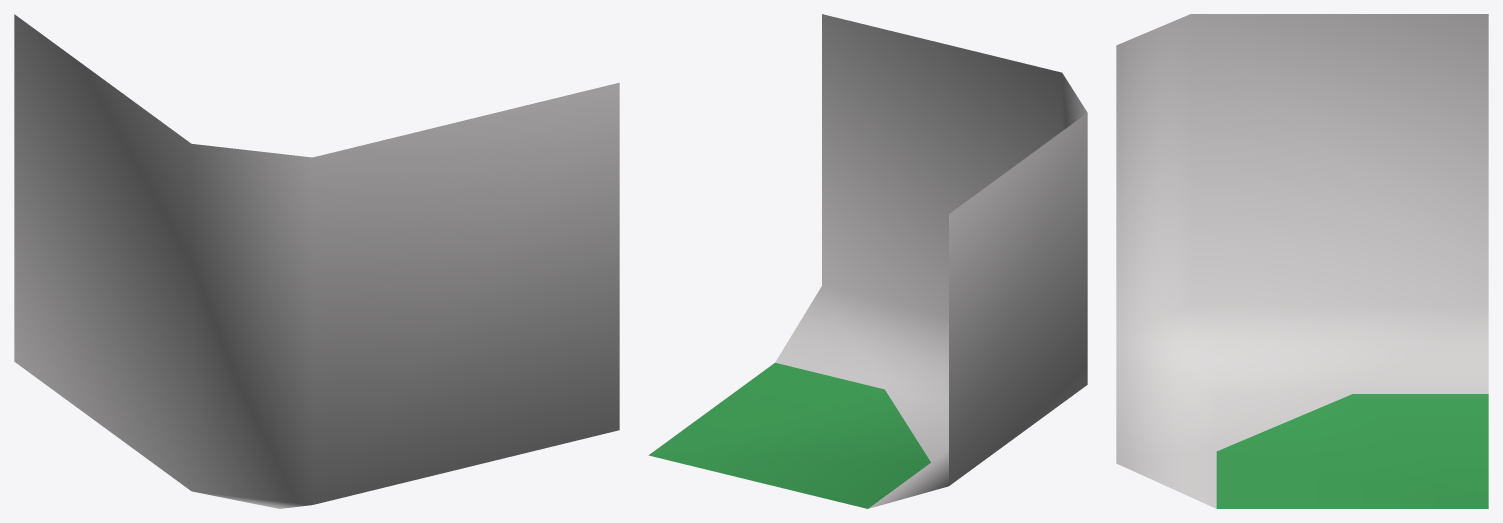
The model's file is CliffStem_InnerBend.fbx.
The picture shows the model from 3 angles, left to right: view 1: azimuth 30°, elevation 25°; view 2: azimuth 150°, elevation 25°; view 3: azimuth 270°, elevation 25°; orthographic projection. The views are drawn at different scales.
Parts seen in each view (by area): view 1: CliffStem_InnerBend.001; view 2: CliffStem_InnerBend.001; view 3: CliffStem_InnerBend.001.
Boxes of the visible parts, left/top/right/bottom form: CliffStem_InnerBend.001: left=14, top=14, right=619, bottom=508; CliffStem_InnerBend.001: left=648, top=14, right=1087, bottom=508; CliffStem_InnerBend.001: left=1116, top=14, right=1488, bottom=508.
Bounding box in the file's own units: 5 × 5 × 5.
